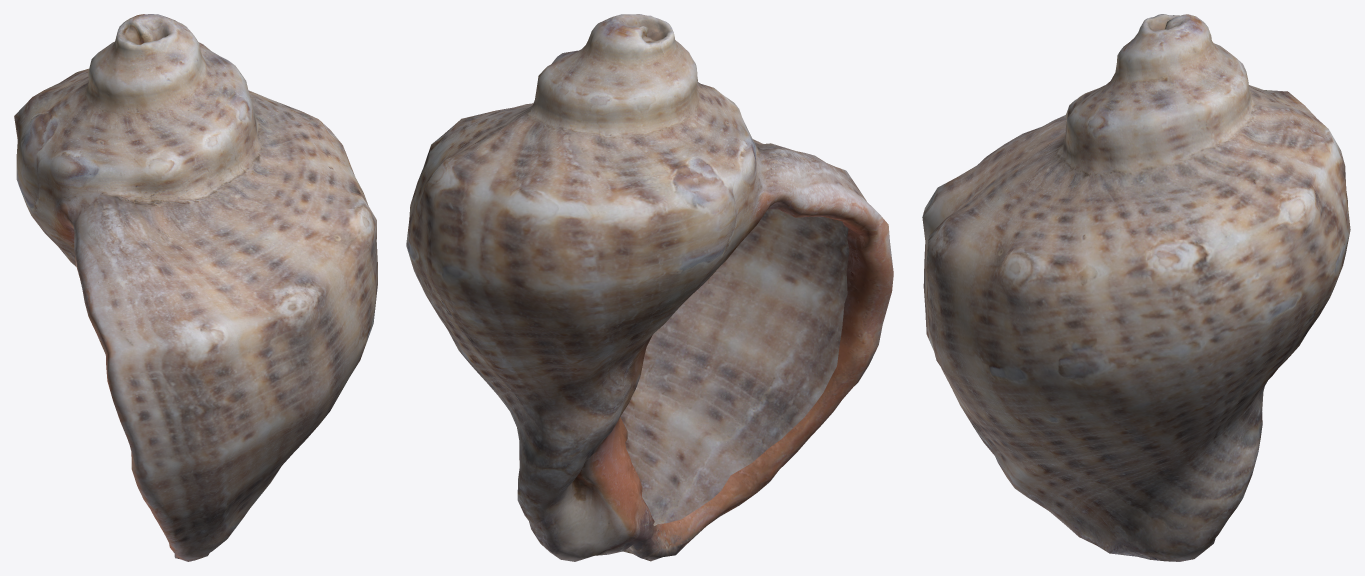
Rendered from seashell.glb.
The picture shows the model from 3 angles, left to right: view 1: azimuth 30°, elevation 25°; view 2: azimuth 150°, elevation 25°; view 3: azimuth 270°, elevation 25°; orthographic projection. The views are drawn at different scales.
Parts seen in each view (by area): view 1: lowPolyShell; view 2: lowPolyShell; view 3: lowPolyShell.
Boxes of the visible parts, x1,y1,x2,y2 form: lowPolyShell: (14,14,377,561); lowPolyShell: (406,14,893,561); lowPolyShell: (922,14,1350,561).
Size of the model in its own units: 1.33 by 2 by 1.47.
1 material, 1 textured.
